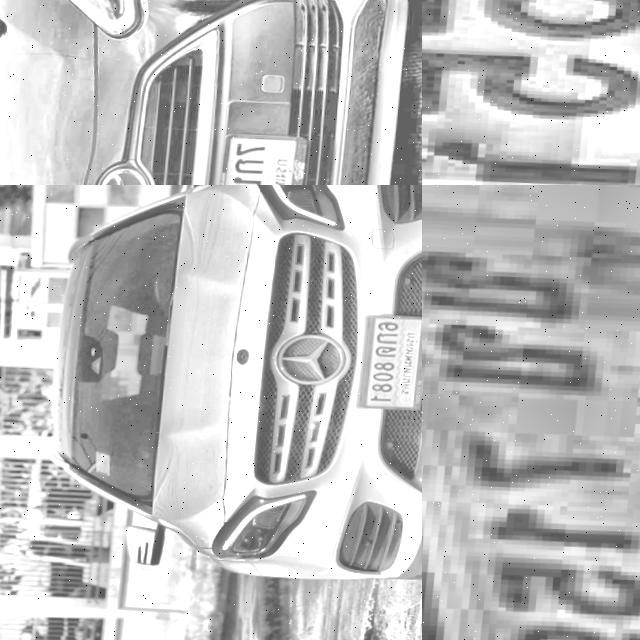license-plate: (422, 185, 640, 640), (422, 0, 640, 185), (356, 311, 422, 413), (211, 132, 315, 185)
